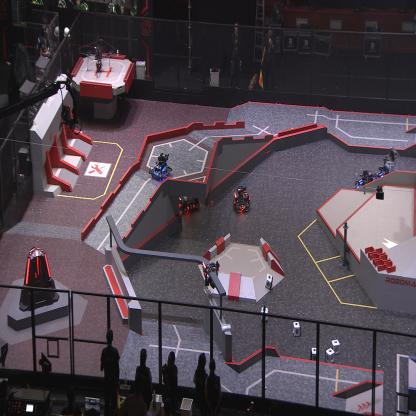car: (376, 146, 402, 184), (176, 173, 200, 214), (148, 152, 172, 183), (231, 184, 251, 215), (355, 167, 373, 196)
